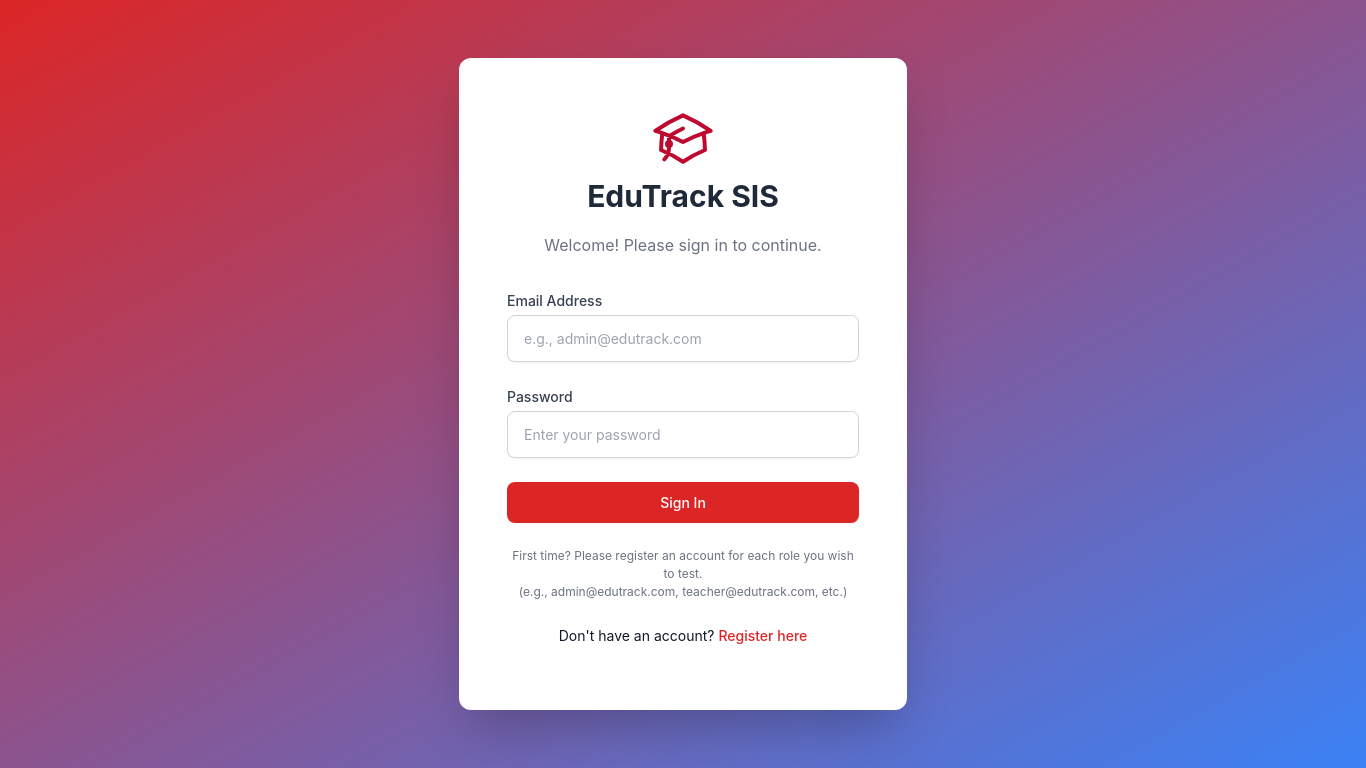
it: LoginScreen Component › Authentication Flow › handles authentication failure
Type "test@example.com" into the field labelled "Email Address" at (683, 338), box left=507, top=315, right=859, bottom=362
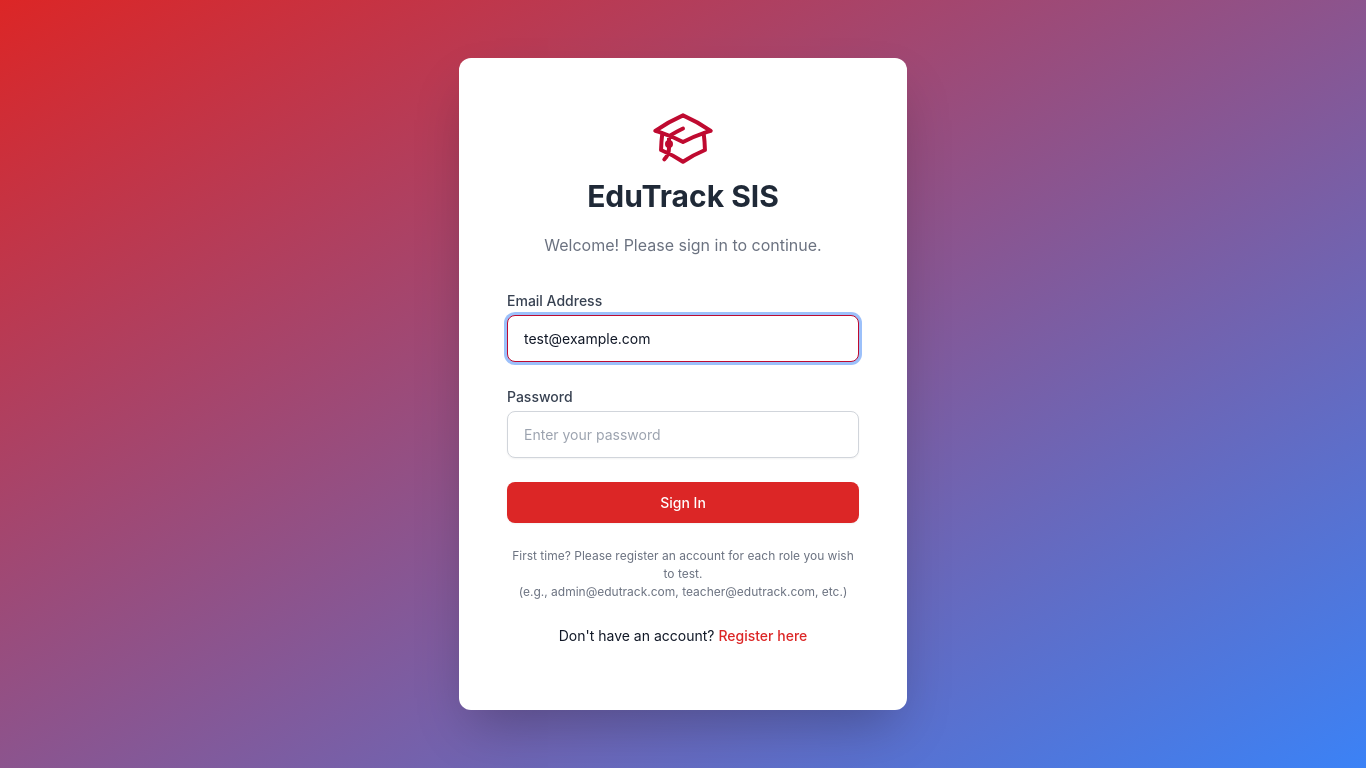
Type "wrongpassword" into the password field labelled "Password" at (683, 434), box left=507, top=411, right=859, bottom=458
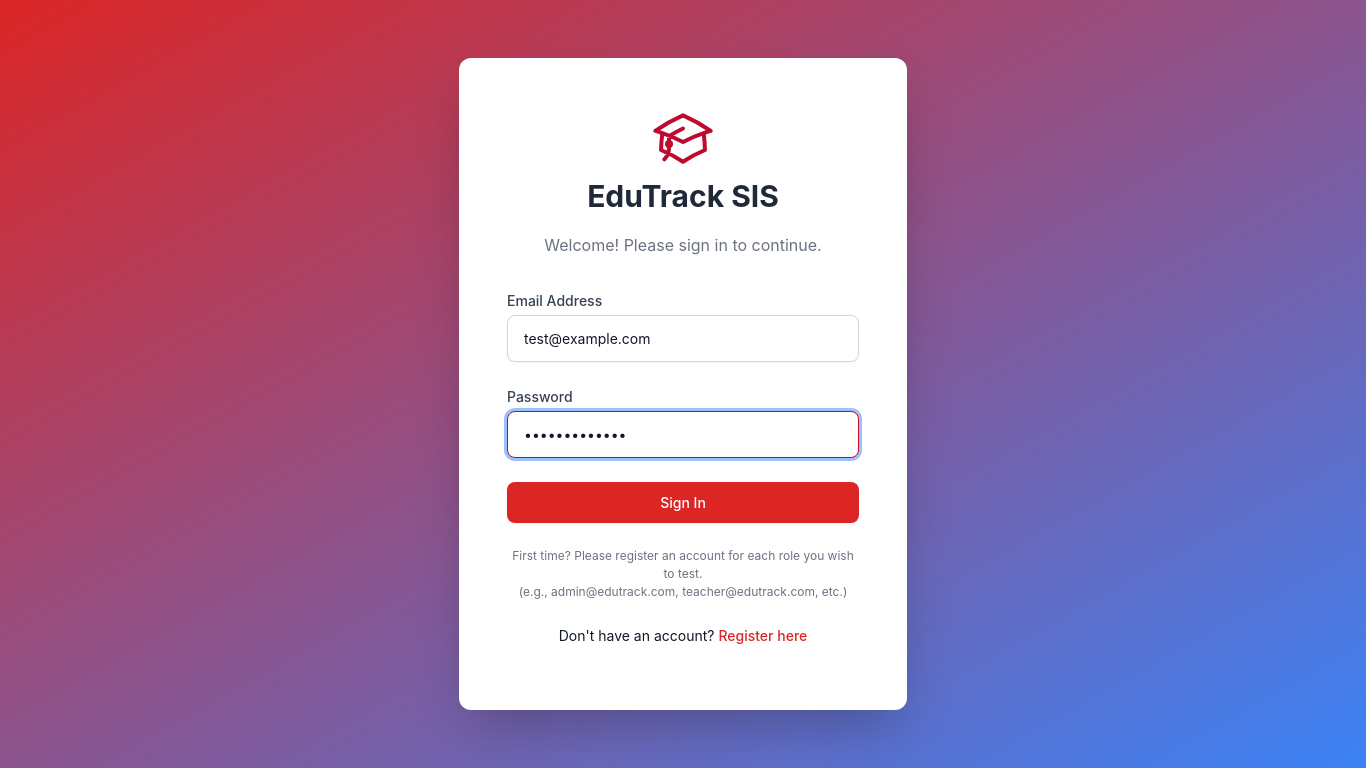
Click the button "Sign In" at (683, 502), box left=507, top=482, right=859, bottom=523
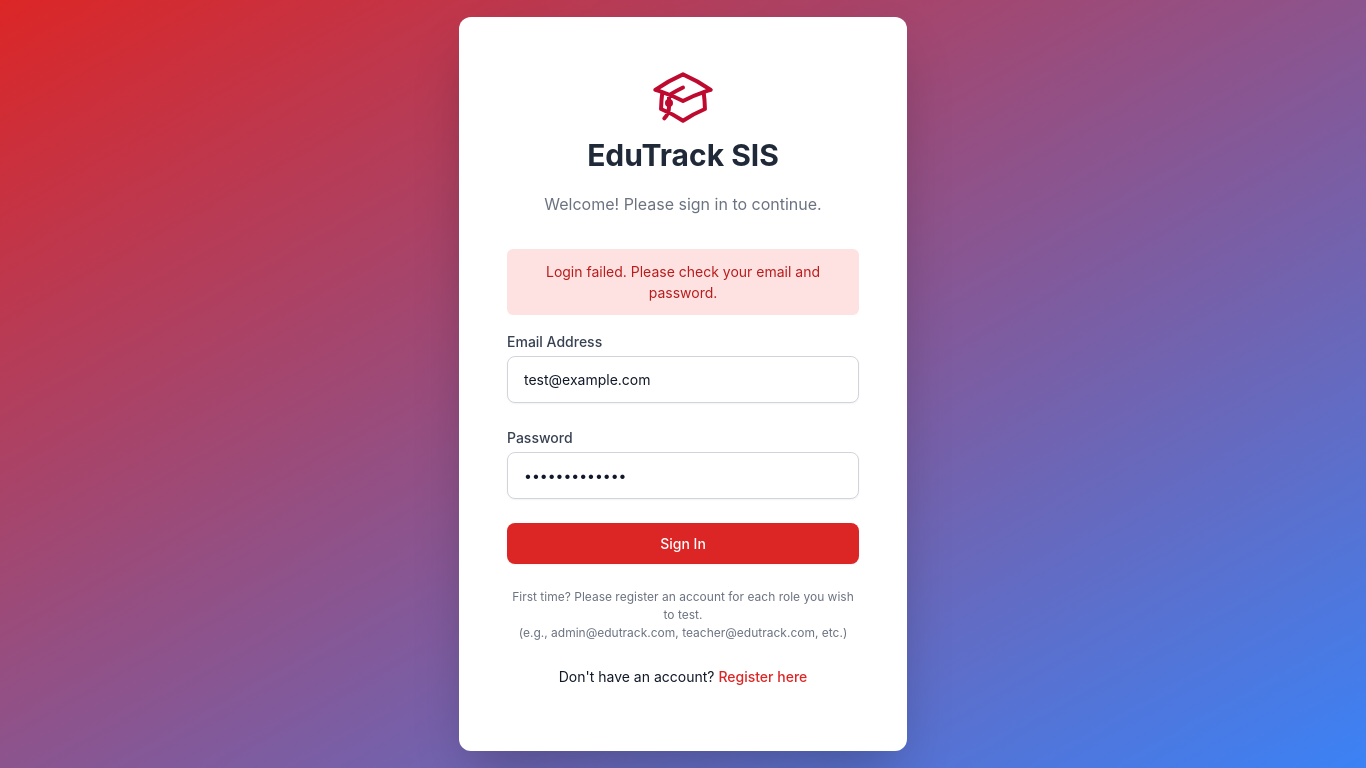
Check: the text "Login failed. Please check your email and password." is shown, box left=507, top=249, right=859, bottom=315
